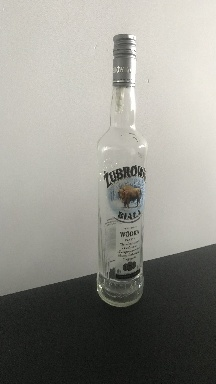butelka: (94, 30, 149, 310)
